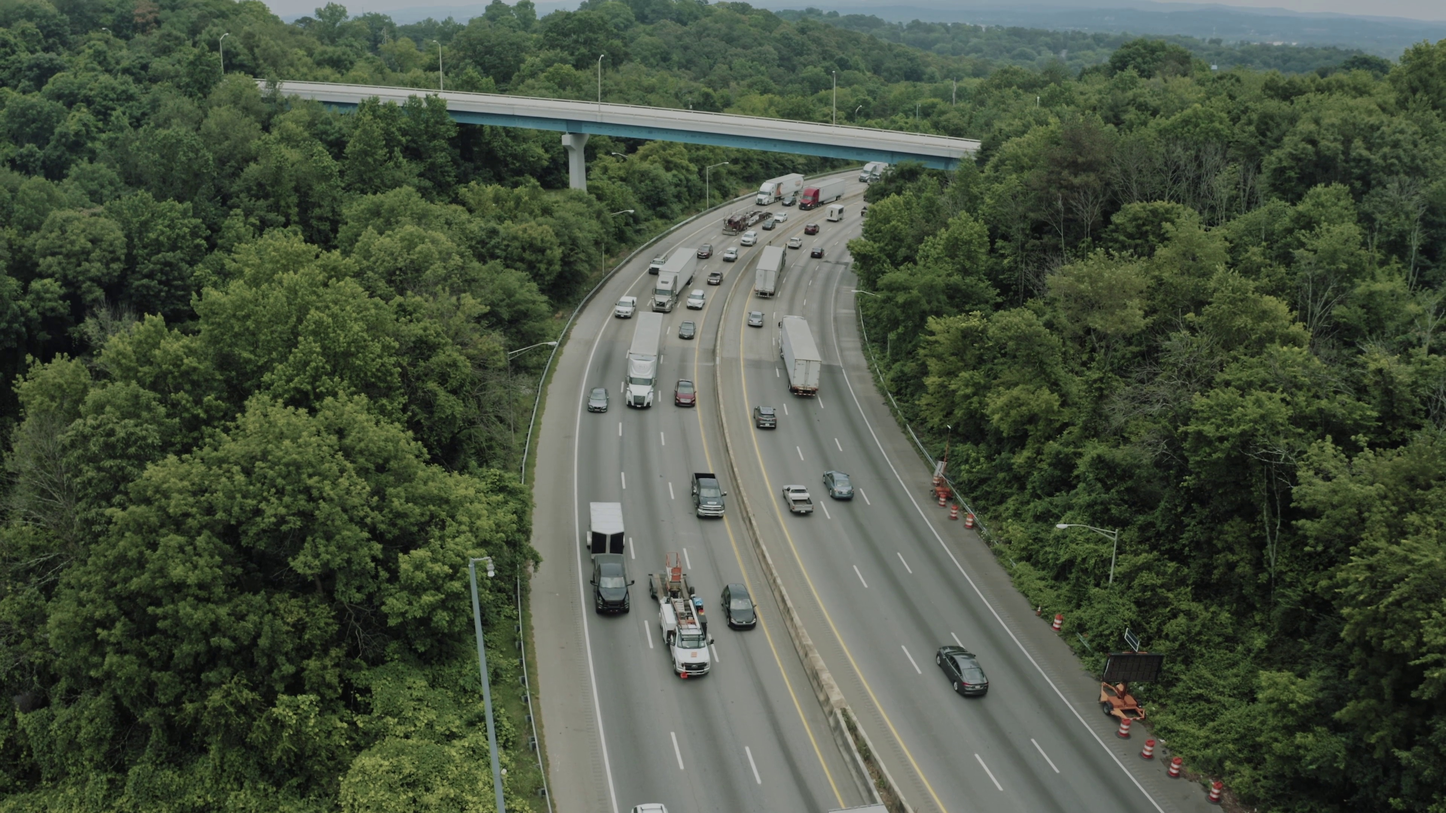Vehicle: (644, 556, 714, 679), (590, 549, 634, 615), (936, 645, 989, 697), (720, 583, 763, 631), (623, 355, 657, 408), (691, 473, 727, 519), (648, 274, 681, 313), (776, 315, 804, 355), (782, 484, 814, 515), (822, 470, 854, 500), (782, 485, 814, 515), (858, 161, 889, 183), (647, 253, 672, 278), (614, 295, 638, 319), (587, 387, 609, 413), (722, 214, 748, 236), (753, 406, 777, 429), (755, 180, 777, 205), (798, 185, 819, 211), (674, 385, 696, 407), (686, 289, 706, 310), (631, 803, 669, 813), (825, 204, 845, 222), (678, 320, 696, 339), (747, 311, 765, 327), (697, 243, 713, 259), (723, 247, 739, 262), (707, 271, 724, 285), (787, 237, 803, 249), (741, 230, 758, 241), (762, 218, 776, 231), (804, 223, 819, 235), (782, 196, 797, 207), (773, 212, 788, 223), (811, 247, 824, 258), (861, 206, 868, 217)
